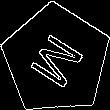M_SE: (23, 27, 89, 92)
